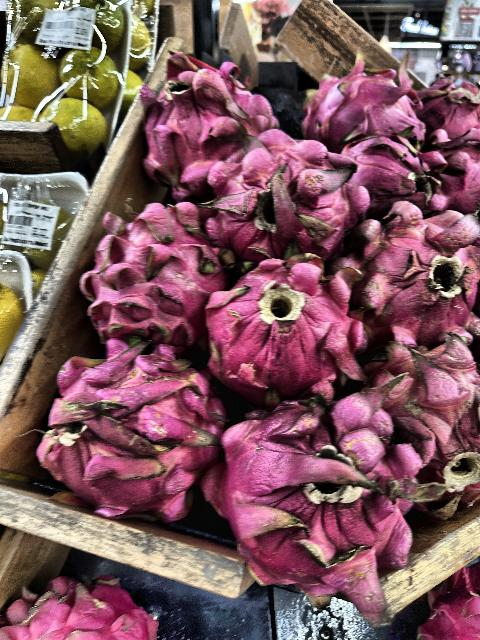buah-naga-matang: (207, 374, 429, 612), (40, 337, 214, 518), (204, 126, 364, 260), (208, 252, 354, 396), (75, 198, 216, 344), (376, 331, 480, 511), (358, 196, 480, 330), (133, 39, 262, 162), (304, 52, 426, 150), (350, 122, 436, 208), (416, 73, 480, 141)
